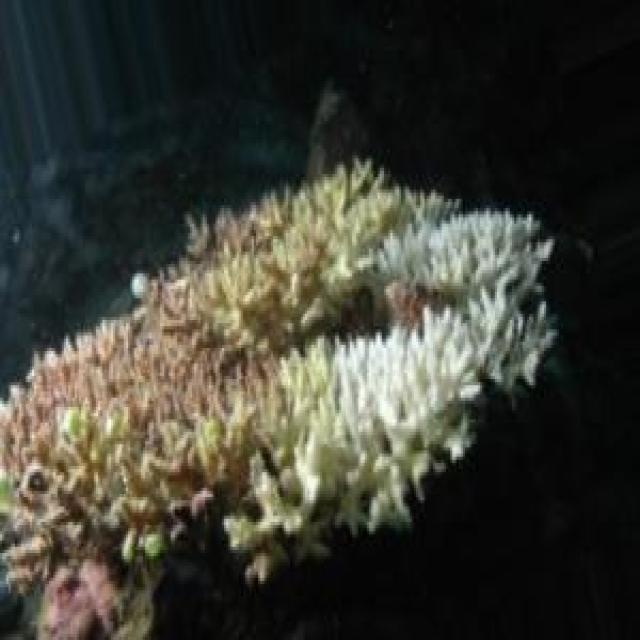bleached coral: (294, 306, 481, 532), (378, 193, 555, 387)
healthy coral: (0, 279, 281, 445), (168, 172, 349, 278)
